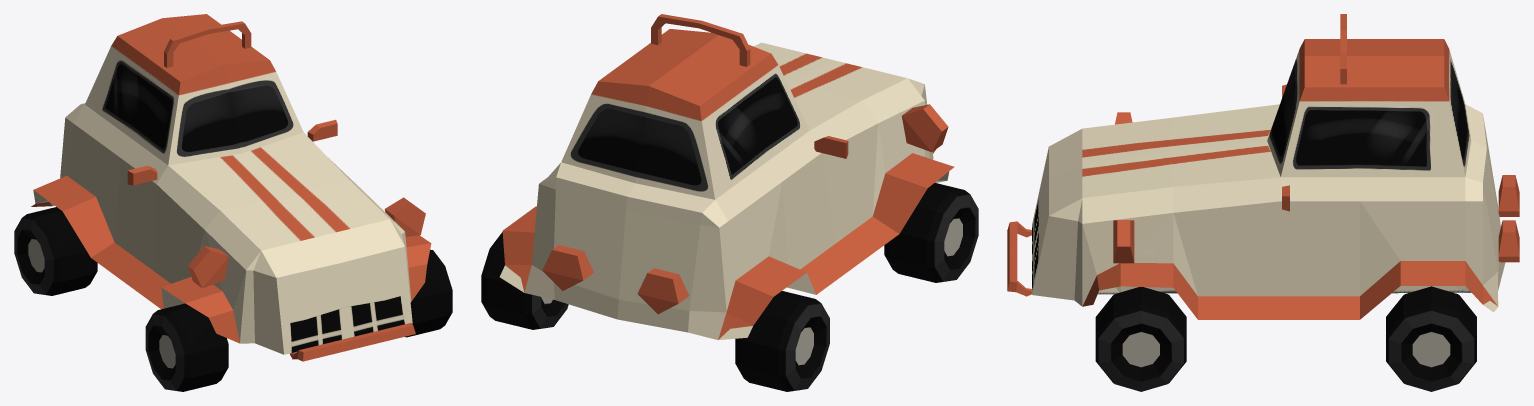
Rendered from car1.fbx.
3 renders of one model, left to right at view 1: azimuth 30°, elevation 25°; view 2: azimuth 150°, elevation 25°; view 3: azimuth 270°, elevation 25°, orthographic. The views are drawn at different scales.
Visible parts, largest first — view 1: car1, car1_wheel_7, car1_wheel_9, car1_wheel_5, front_car1_light_RGH, front_car1_light_LEF; view 2: car1, car1_wheel_9, car1_wheel_7, car1_wheel_3, front_car1_light_RGH, rear_car1_light_LEF, rear_car1_light_RGH; view 3: car1, car1_wheel_5, car1_wheel_3, front_car1_light_LEF, rear_car1_light_LEF, rear_car1_light_RGH.
Part boxes in pixels (<box>): car1: <box>31,14,431,361</box>; car1_wheel_7: <box>145,303,228,391</box>; car1_wheel_9: <box>14,207,97,295</box>; car1_wheel_5: <box>405,249,452,337</box>; front_car1_light_RGH: <box>188,246,228,288</box>; front_car1_light_LEF: <box>384,197,425,236</box>; car1: <box>499,14,954,340</box>; car1_wheel_9: <box>735,291,829,391</box>; car1_wheel_7: <box>884,183,978,282</box>; car1_wheel_3: <box>481,232,568,329</box>; front_car1_light_RGH: <box>902,104,948,152</box>; rear_car1_light_LEF: <box>542,245,593,290</box>; rear_car1_light_RGH: <box>637,268,688,314</box>; car1: <box>1007,14,1505,319</box>; car1_wheel_5: <box>1095,287,1186,391</box>; car1_wheel_3: <box>1386,286,1476,391</box>; front_car1_light_LEF: <box>1113,220,1134,263</box>; rear_car1_light_LEF: <box>1498,220,1519,262</box>; rear_car1_light_RGH: <box>1498,175,1519,216</box>.
Bounding box in the file's own units: 3.24 × 2.98 × 4.74.
